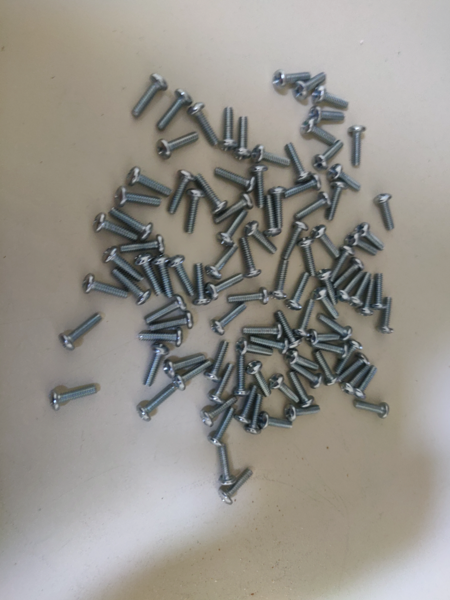shortscrew: (131, 74, 167, 118), (136, 385, 177, 423), (60, 314, 102, 351), (102, 246, 144, 283), (156, 88, 192, 131), (109, 208, 154, 241), (110, 269, 151, 304), (189, 103, 220, 147), (92, 214, 138, 243), (126, 167, 171, 196), (196, 174, 227, 216), (218, 468, 253, 505), (205, 242, 238, 280), (156, 131, 200, 159), (51, 384, 98, 410), (82, 274, 130, 299), (145, 295, 186, 324), (217, 210, 249, 247), (214, 194, 253, 224), (211, 304, 247, 336), (170, 170, 196, 214), (168, 255, 195, 297), (201, 397, 238, 427), (174, 361, 211, 391), (209, 406, 236, 447), (136, 254, 162, 296), (275, 310, 302, 350), (145, 343, 169, 387), (163, 356, 205, 381), (312, 139, 344, 171), (152, 255, 175, 299), (335, 340, 363, 376), (214, 168, 256, 192), (205, 341, 229, 383), (283, 221, 309, 259), (287, 145, 312, 184), (239, 237, 262, 279), (246, 361, 272, 398), (336, 353, 368, 383), (217, 107, 238, 152), (317, 315, 353, 341), (333, 258, 364, 288), (342, 363, 371, 395), (269, 374, 301, 403), (336, 271, 365, 303), (314, 350, 339, 387), (328, 164, 361, 192), (312, 225, 340, 258), (138, 328, 184, 348), (115, 186, 161, 206), (287, 271, 310, 311), (210, 364, 233, 404), (302, 119, 336, 146), (286, 174, 322, 199), (294, 73, 327, 100), (290, 372, 314, 409), (312, 86, 349, 110), (186, 189, 206, 233), (149, 312, 193, 332), (293, 299, 315, 339), (217, 444, 237, 486), (244, 393, 264, 435), (327, 181, 348, 221), (253, 145, 291, 167), (346, 231, 378, 257), (263, 195, 282, 238), (192, 264, 211, 307), (118, 235, 166, 252), (356, 223, 385, 251), (270, 260, 290, 300), (291, 364, 323, 389), (298, 237, 317, 278), (268, 187, 286, 230), (349, 125, 367, 167), (250, 166, 268, 208), (354, 366, 376, 400), (349, 273, 371, 307), (353, 400, 390, 420), (375, 194, 395, 231), (235, 118, 252, 161), (227, 288, 270, 305), (242, 323, 284, 340), (236, 338, 273, 357), (273, 71, 311, 89), (258, 411, 293, 430), (285, 403, 321, 421), (358, 278, 375, 316), (286, 350, 318, 370), (309, 107, 346, 124), (378, 297, 393, 334), (372, 274, 386, 310)
